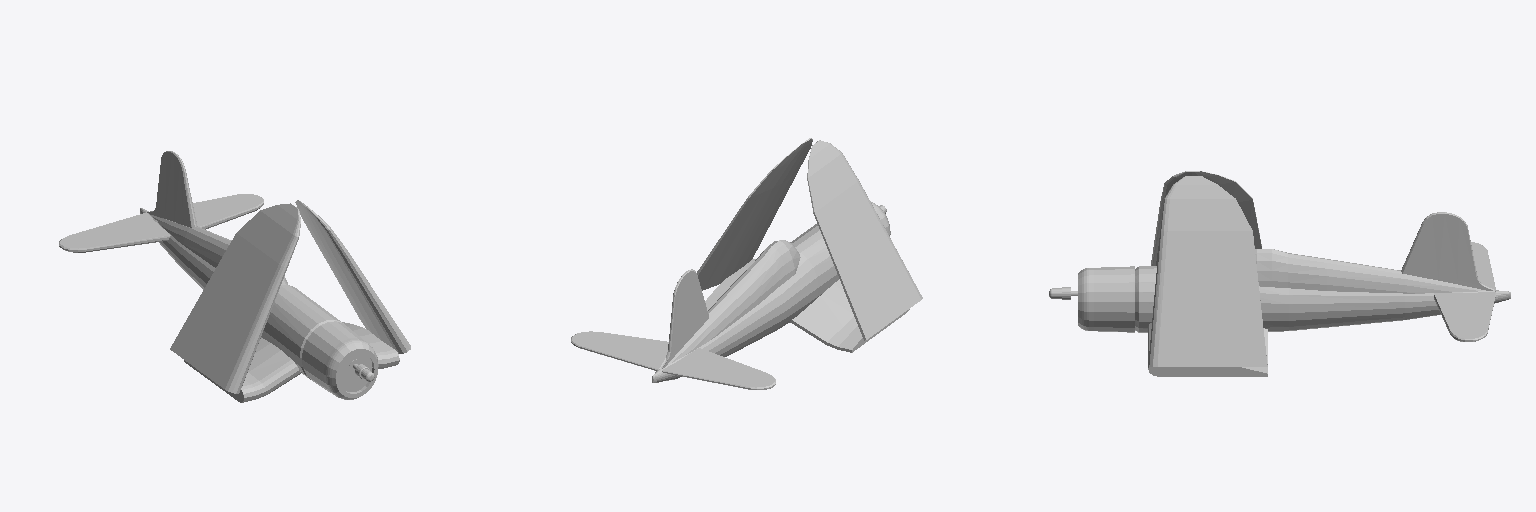
3 renders of one model, left to right at view 1: azimuth 30°, elevation 25°; view 2: azimuth 150°, elevation 25°; view 3: azimuth 270°, elevation 25°, orthographic.
Parts seen in each view (by area): view 1: F4U_JiShen.001; view 2: F4U_JiShen.001; view 3: F4U_JiShen.001.
Part boxes in pixels (bbox=[...]): F4U_JiShen.001: bbox=[59, 151, 410, 402]; F4U_JiShen.001: bbox=[571, 138, 922, 389]; F4U_JiShen.001: bbox=[1049, 171, 1510, 376].
Size of the model in its own units: 5.2 by 4.08 by 10.35.